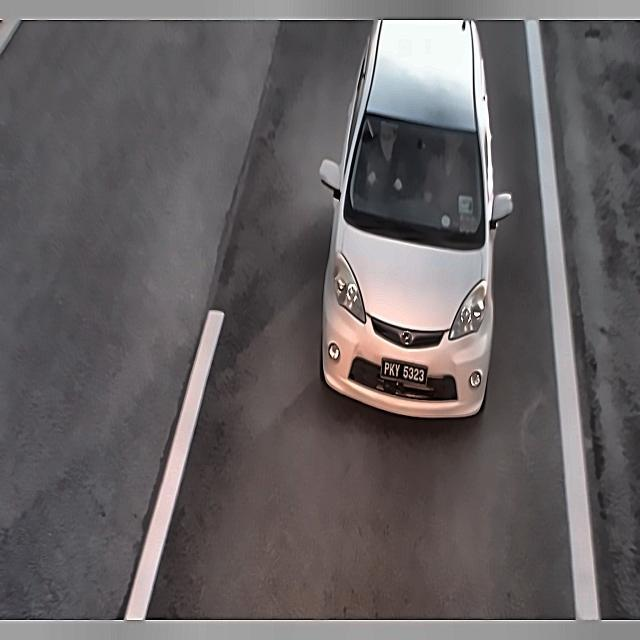car: (376, 352, 435, 393)
